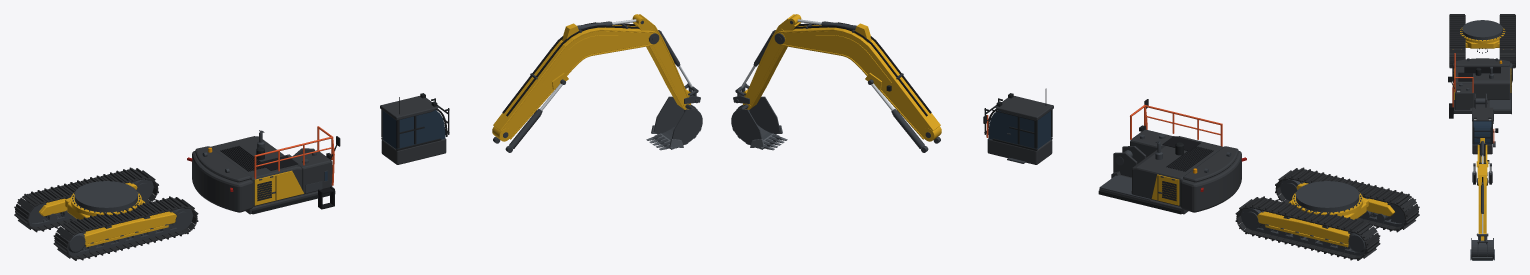
The model's file is excavator-kit.glb.
The picture shows the model from 3 angles, left to right: view 1: azimuth 30°, elevation 25°; view 2: azimuth 150°, elevation 25°; view 3: azimuth 270°, elevation 25°; orthographic projection. The views are drawn at different scales.
Parts seen in each view (by area): view 1: FrameTrackShoes, FrameTrackGrousers, BoomCore, HouseCounterweight, FrameSlewRing, CabGlass, HouseHood, BoomFlangeTop, FrameTrackFrameR, BoomDoublerR, HouseTanks, HouseDoorRight (+12 smaller); view 2: FrameTrackShoes, HouseHood, FrameTrackGrousers, BoomCore, HouseCounterweight, FrameSlewRing, CabGlass, BoomFlangeTop, FrameTrackFrameL, BoomDoublerL, CabLower, HouseCounterweightCrown (+14 smaller); view 3: FrameTrackGrousers, HouseHood, FrameTrackShoes, FrameSlewRing, StickFlangeTop, HouseTanks, HouseCounterweightCrown, CabGlass, BucketShell, CabRoof, HouseDeck, HouseCabPad (+17 smaller).
Part boxes in pixels (<box>): FrameTrackShoes: <box>15,168,197,259</box>; FrameTrackGrousers: <box>14,167,198,260</box>; BoomCore: <box>502,31,652,136</box>; HouseCounterweight: <box>192,151,253,212</box>; FrameSlewRing: <box>74,181,137,212</box>; CabGlass: <box>382,110,445,148</box>; HouseHood: <box>210,136,301,206</box>; BoomFlangeTop: <box>493,25,654,131</box>; FrameTrackFrameR: <box>84,211,176,244</box>; BoomDoublerR: <box>542,35,618,89</box>; HouseTanks: <box>289,150,332,194</box>; HouseDoorRight: <box>254,170,303,205</box>; FrameTrackShoes: <box>1236,168,1418,259</box>; HouseHood: <box>1131,136,1223,206</box>; FrameTrackGrousers: <box>1235,167,1419,260</box>; BoomCore: <box>781,31,931,136</box>; HouseCounterweight: <box>1180,151,1241,212</box>; FrameSlewRing: <box>1296,181,1359,212</box>; CabGlass: <box>988,110,1051,148</box>; BoomFlangeTop: <box>779,25,940,131</box>; FrameTrackFrameL: <box>1257,211,1349,244</box>; BoomDoublerL: <box>815,35,891,89</box>; CabLower: <box>987,138,1052,164</box>; HouseCounterweightCrown: <box>1183,146,1238,182</box>; FrameTrackGrousers: <box>1449,14,1515,68</box>; HouseHood: <box>1455,66,1510,100</box>; FrameTrackShoes: <box>1449,15,1515,67</box>; FrameSlewRing: <box>1462,20,1502,39</box>; StickFlangeTop: <box>1478,166,1486,240</box>; HouseTanks: <box>1454,83,1473,109</box>; HouseCounterweightCrown: <box>1455,58,1510,66</box>; CabGlass: <box>1473,121,1491,144</box>; BucketShell: <box>1472,240,1492,260</box>; CabRoof: <box>1472,107,1493,121</box>; HouseDeck: <box>1453,88,1511,113</box>; HouseCabPad: <box>1489,94,1511,110</box>.
Size of the model in its own units: 11.97 by 2.44 by 1.67.
